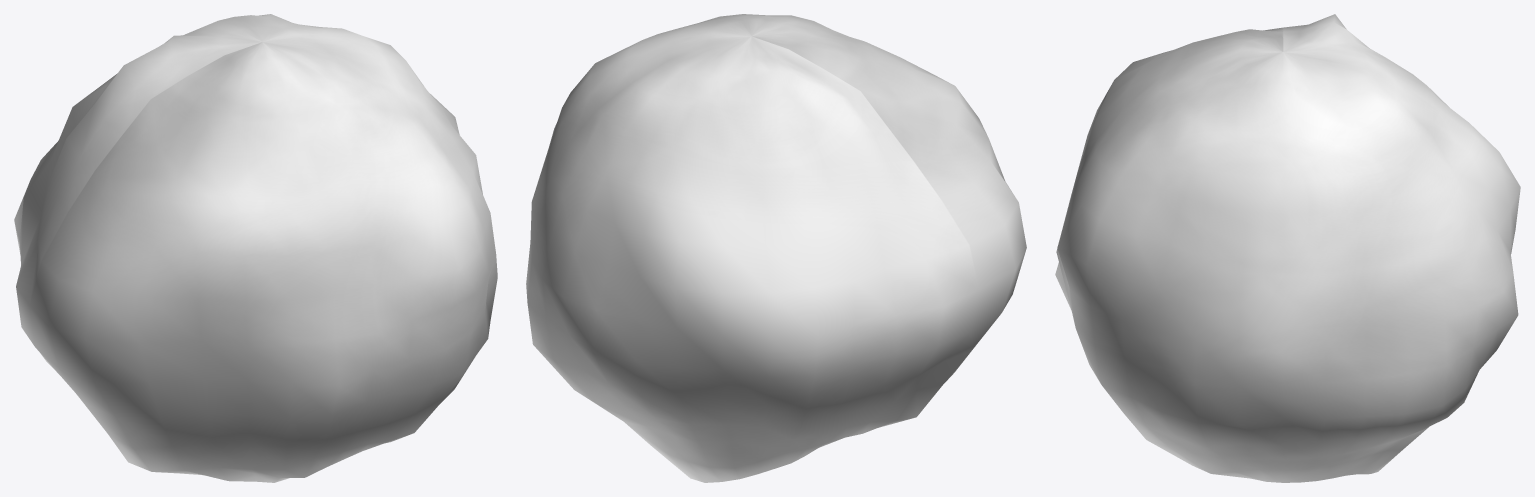
File: snowball.glb
3 renders of one model, left to right at view 1: azimuth 30°, elevation 25°; view 2: azimuth 150°, elevation 25°; view 3: azimuth 270°, elevation 25°, orthographic. The views are drawn at different scales.
Parts seen in each view (by area): view 1: Sphere; view 2: Sphere; view 3: Sphere.
Part boxes in pixels (<box>): Sphere: <box>14,14,497,482</box>; Sphere: <box>526,14,1026,482</box>; Sphere: <box>1055,14,1520,482</box>.
Bounding box in the file's own units: 0.4661 × 0.4168 × 0.4225.
Materials: 1 (1 with a texture image).
